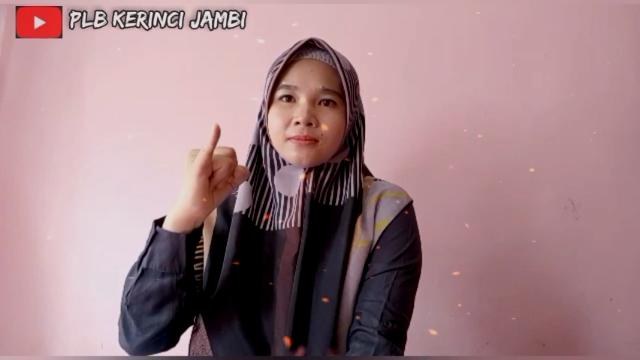J: (180, 124, 250, 218)
